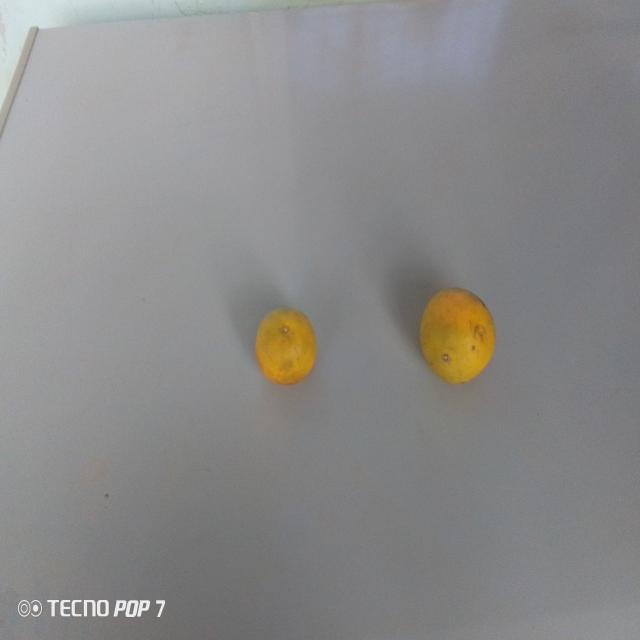Ripe orange: (409, 278, 502, 391), (249, 302, 326, 403)
